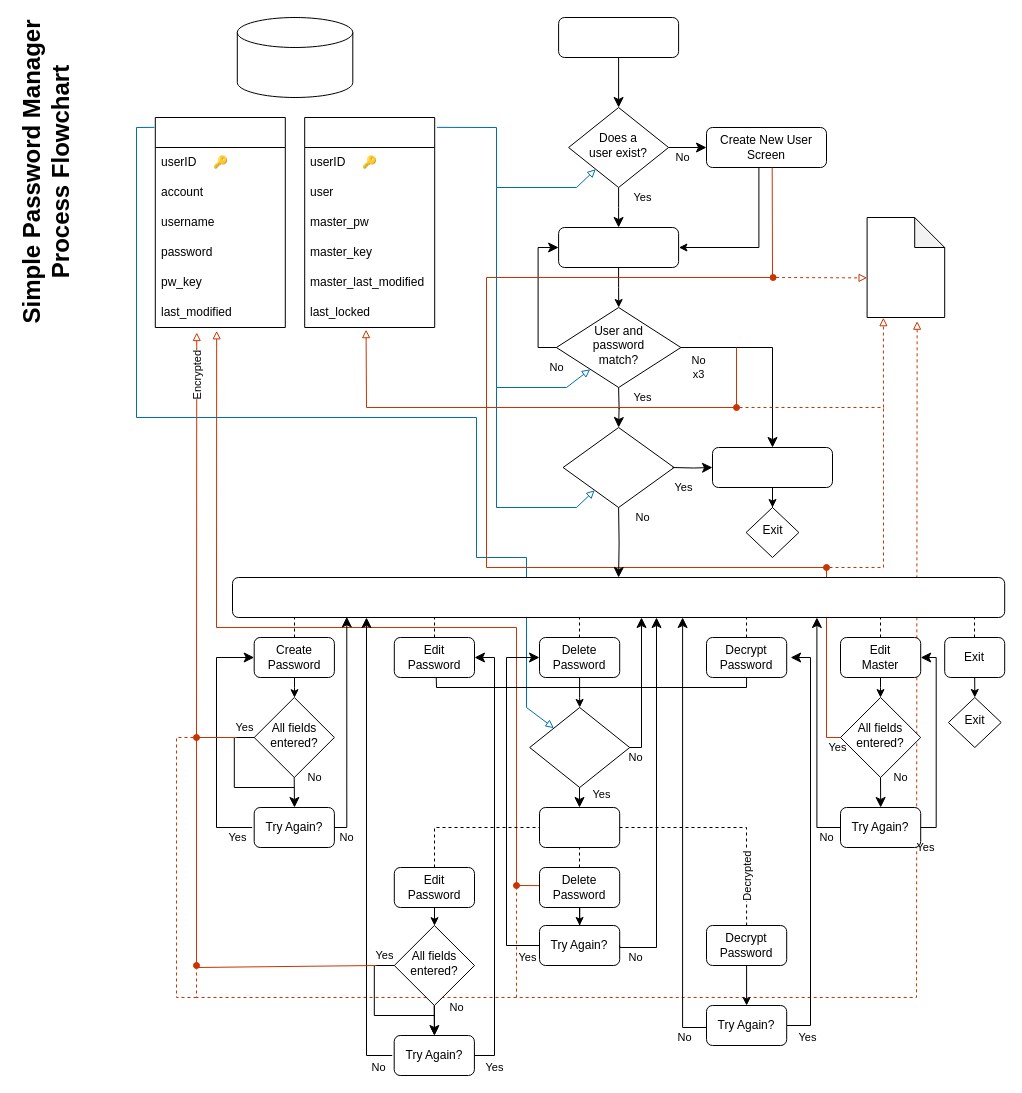
Image size: 1022x1093. Some labels were removed from this diagram. Each missing label, with the box of its shape:
Does a password exist?: (529, 706, 630, 788)
Is user locked out?: (562, 426, 674, 508)
Launch: (558, 16, 679, 58)
List Passwords: (538, 806, 620, 848)
Lock Out Screen: (712, 446, 832, 488)
Log In Screen: (558, 226, 679, 268)
Logs: (866, 216, 945, 318)
Passwords: (154, 116, 285, 328)
SQLite3: (236, 16, 353, 98)
Start Menu: (232, 576, 1005, 618)
Users: (304, 116, 435, 328)
